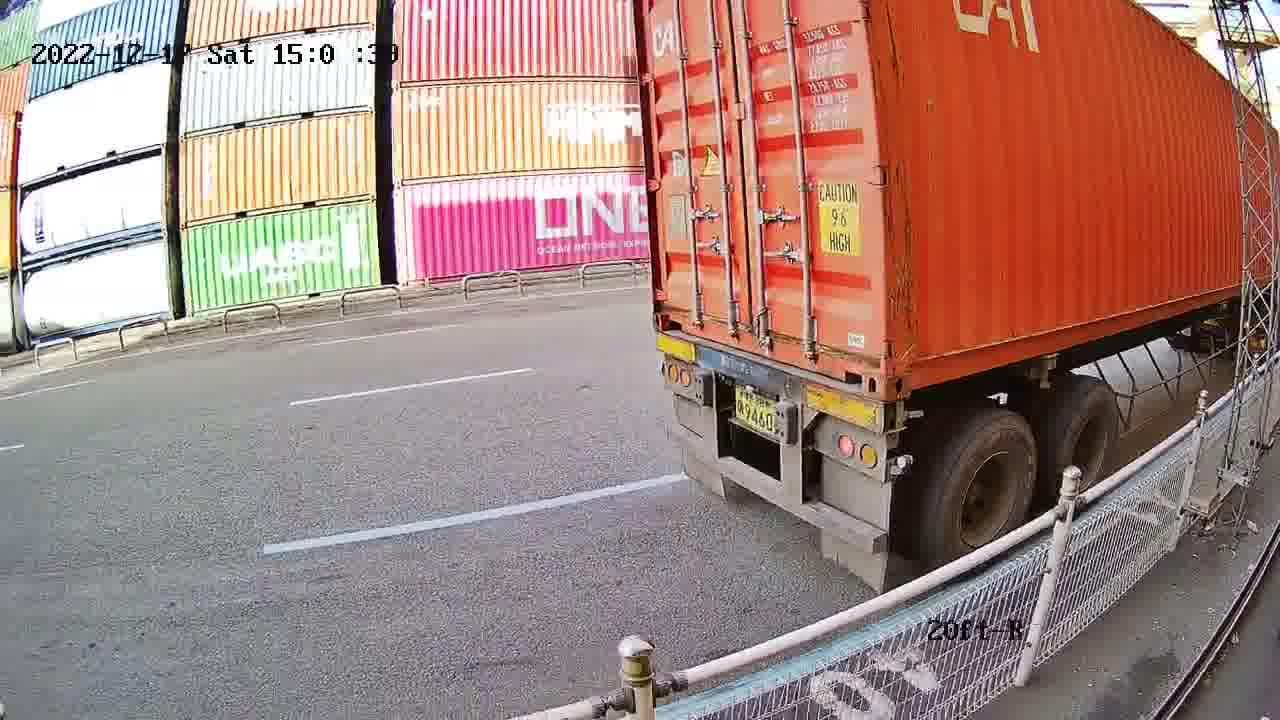Chassis: (656, 331, 882, 433)
Cone: (875, 390, 922, 437)
Hole_L: (885, 314, 943, 399), (653, 278, 692, 335)
Hole_R: (829, 322, 885, 394)
Tire: (934, 417, 1036, 554), (1056, 383, 1119, 472)
